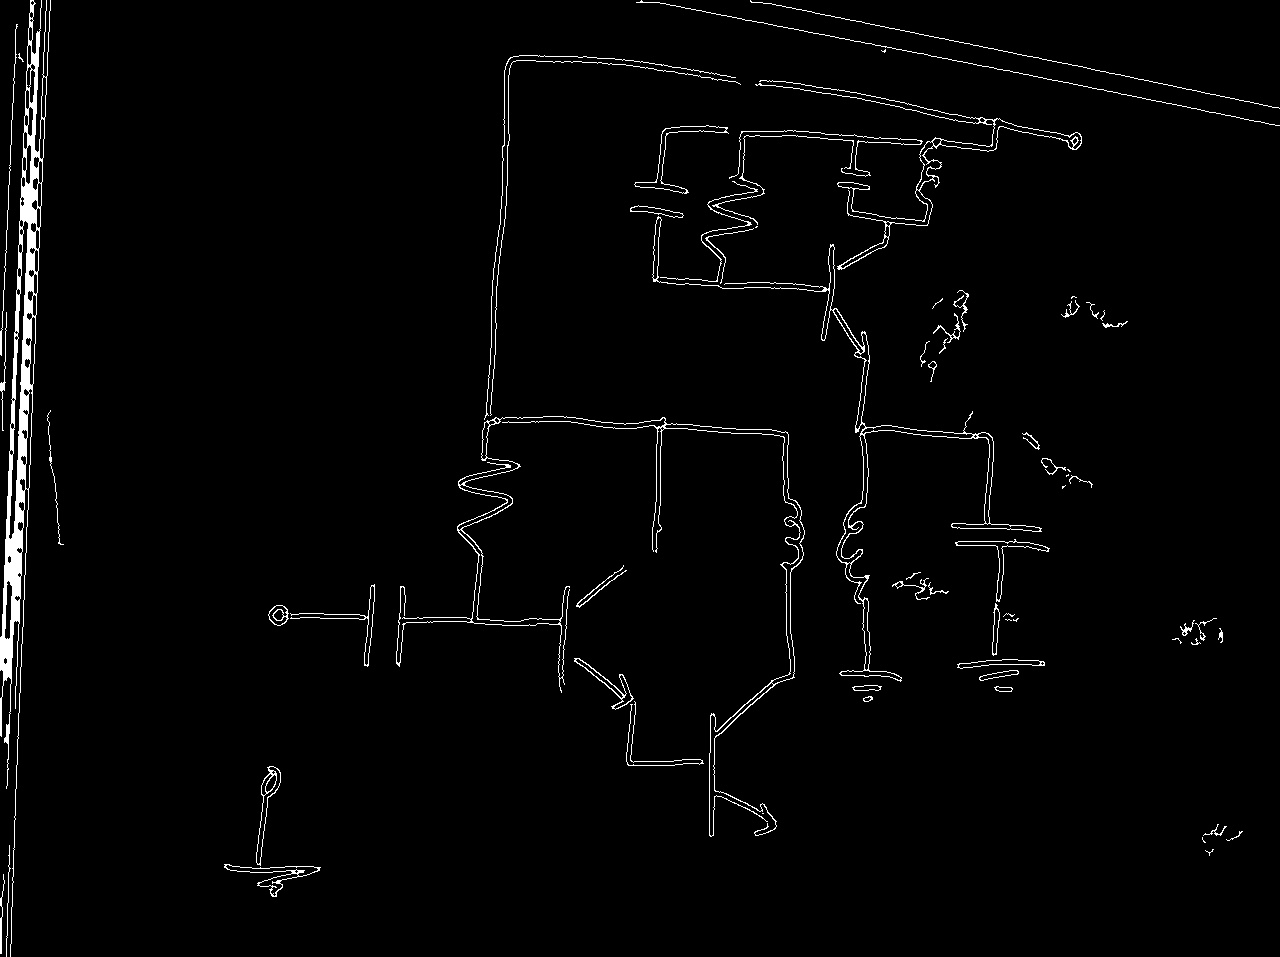capacitor: (353, 577, 420, 677), (944, 509, 1056, 564), (623, 163, 694, 230), (833, 158, 876, 202)
ground0: (218, 846, 323, 928)
ground1: (954, 638, 1048, 731), (834, 650, 905, 733)
inductor: (832, 483, 876, 621), (774, 485, 812, 580), (908, 146, 946, 219)
resistor: (452, 438, 523, 574), (695, 152, 772, 274)
